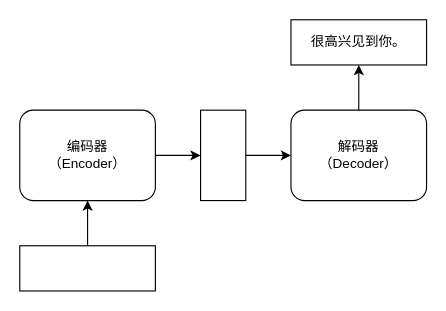
Image size: 446x311. Some labels were removed from this diagram. Each missing label, with the centre of its shape:
"Nice to meet you." belongs at (x=87, y=268).
"上 下 文 向 量" belongs at (x=222, y=155).
